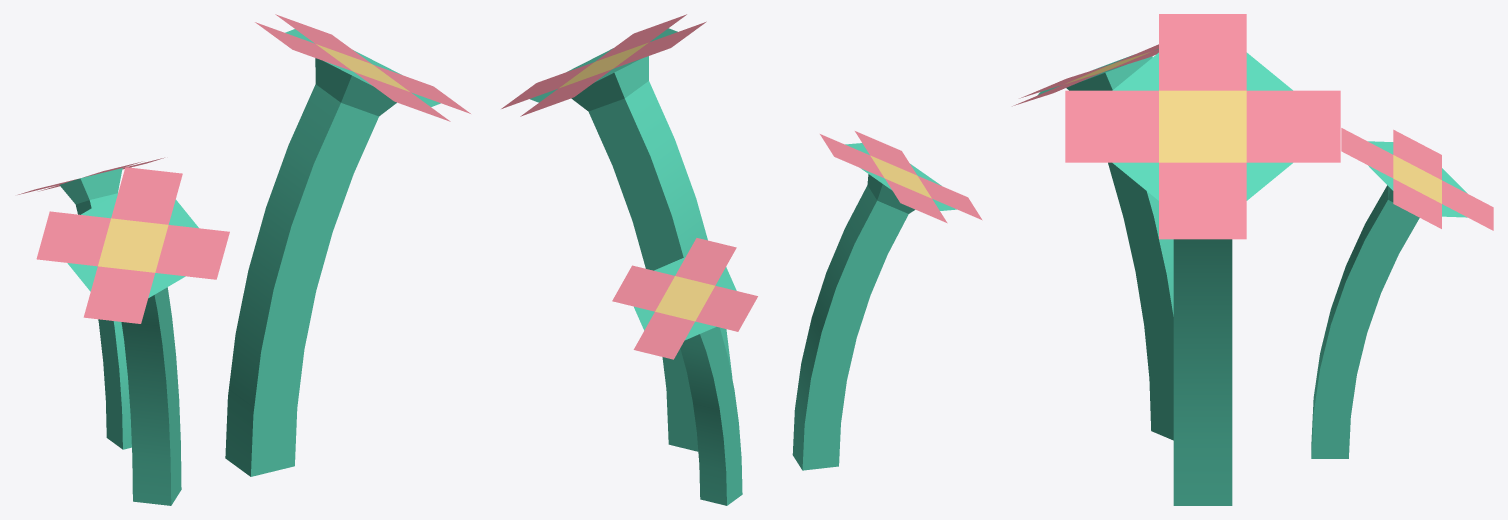
Rendered from flowers.glb.
3 renders of one model, left to right at view 1: azimuth 30°, elevation 25°; view 2: azimuth 150°, elevation 25°; view 3: azimuth 270°, elevation 25°, orthographic. The views are drawn at different scales.
Visible parts, largest first — view 1: flowers(Clone); view 2: flowers(Clone); view 3: flowers(Clone).
Boxes of the visible parts, <box> form: flowers(Clone): <box>18,14,470,505</box>; flowers(Clone): <box>501,14,982,505</box>; flowers(Clone): <box>1012,14,1493,505</box>.
Bounding box in the file's own units: 0.4975 × 0.464 × 0.4168.
